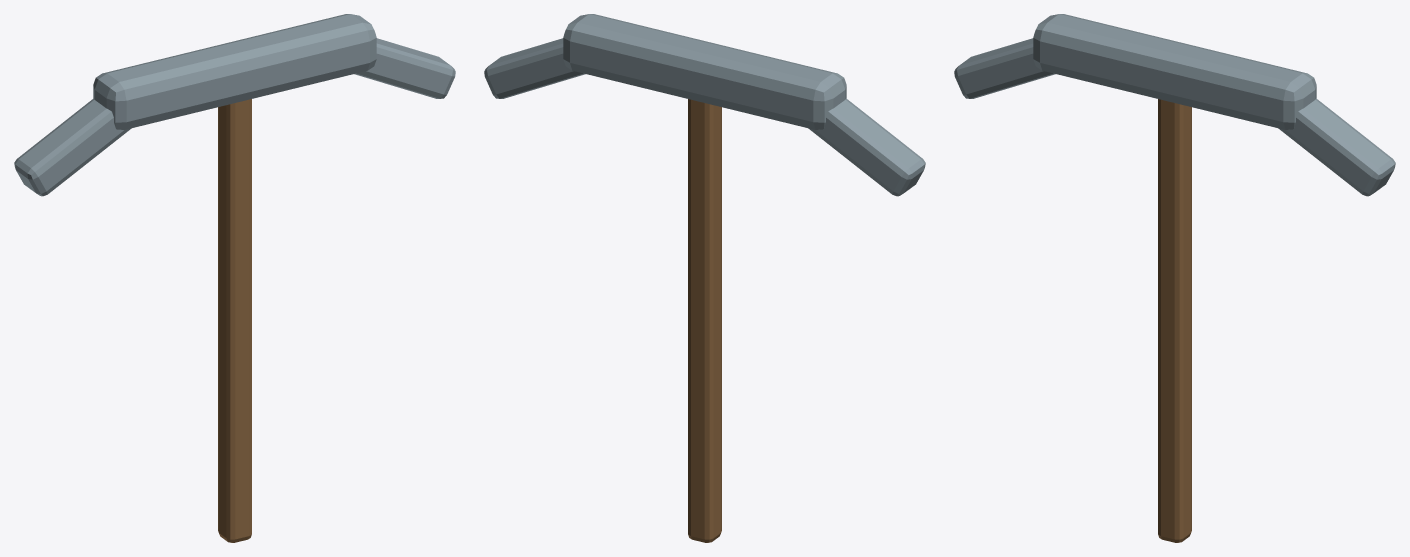
File: MinerPickaxe.fbx
3 views of the same model, side by side, from view 1: azimuth 30°, elevation 25°; view 2: azimuth 150°, elevation 25°; view 3: azimuth 330°, elevation 25° (orthographic).
Visible parts, largest first — view 1: PickaxeHead, PickaxeHandle, PickaxeTip, PickaxeTip.001; view 2: PickaxeHead, PickaxeHandle, PickaxeTip, PickaxeTip.001; view 3: PickaxeHead, PickaxeHandle, PickaxeTip.001, PickaxeTip.
Boxes of the visible parts, bbox=[...] form: PickaxeHead: bbox=[93, 14, 376, 129]; PickaxeHandle: bbox=[218, 99, 251, 542]; PickaxeTip: bbox=[14, 98, 131, 196]; PickaxeTip.001: bbox=[354, 38, 455, 98]; PickaxeHead: bbox=[563, 14, 846, 129]; PickaxeHandle: bbox=[688, 99, 721, 542]; PickaxeTip: bbox=[808, 98, 925, 196]; PickaxeTip.001: bbox=[484, 38, 585, 98]; PickaxeHead: bbox=[1033, 14, 1316, 129]; PickaxeHandle: bbox=[1158, 99, 1191, 542]; PickaxeTip.001: bbox=[1278, 98, 1395, 196]; PickaxeTip: bbox=[954, 38, 1055, 98].
Size of the model in its own units: 60.37 by 66.25 by 6.5.
